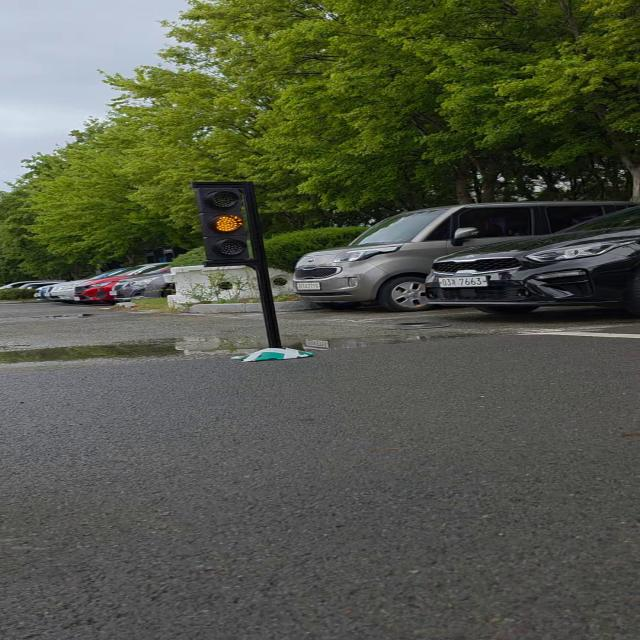yellow: (197, 186, 256, 262)
